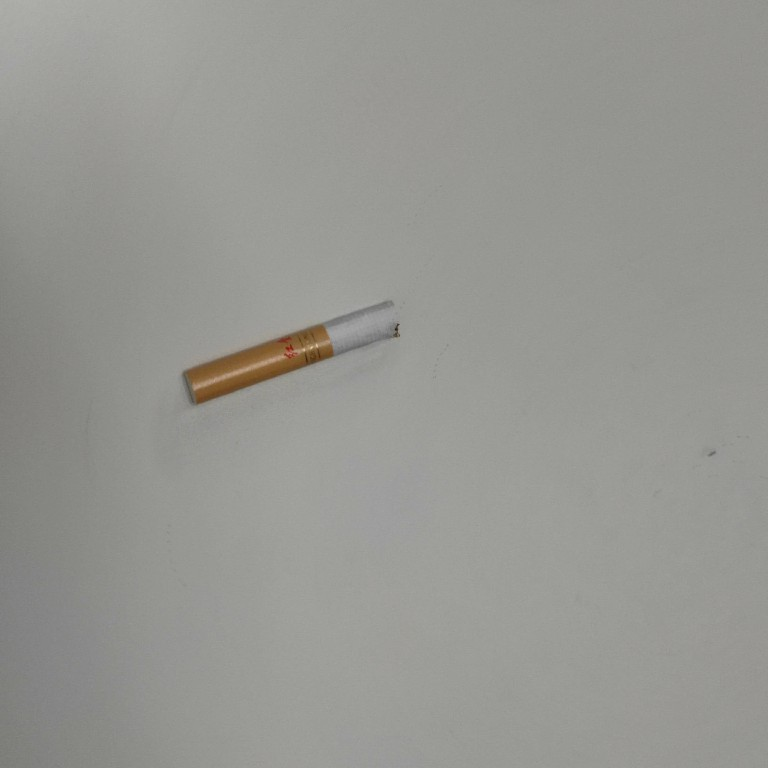cigarette: (177, 294, 404, 407)
